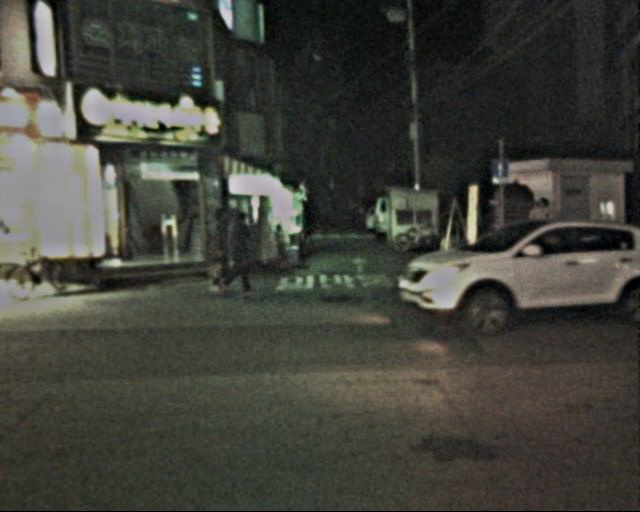person: (523, 192, 563, 290), (198, 206, 239, 291), (220, 204, 257, 296)
